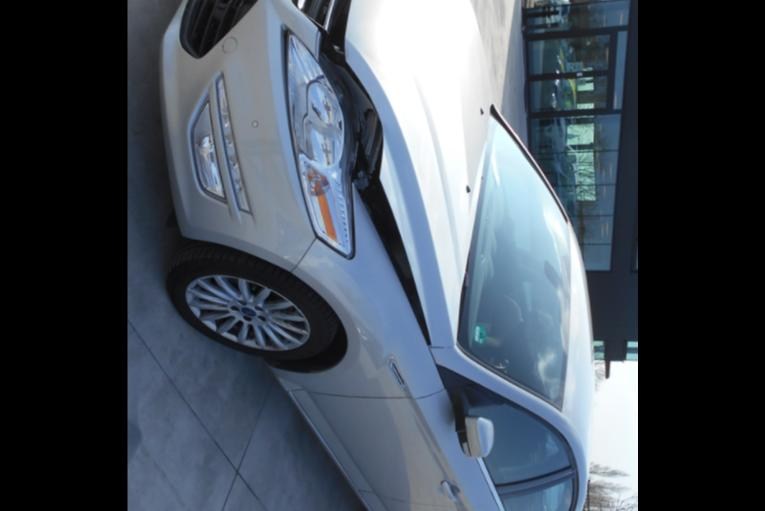Broken part: (314, 0, 434, 349), (178, 0, 261, 61)
